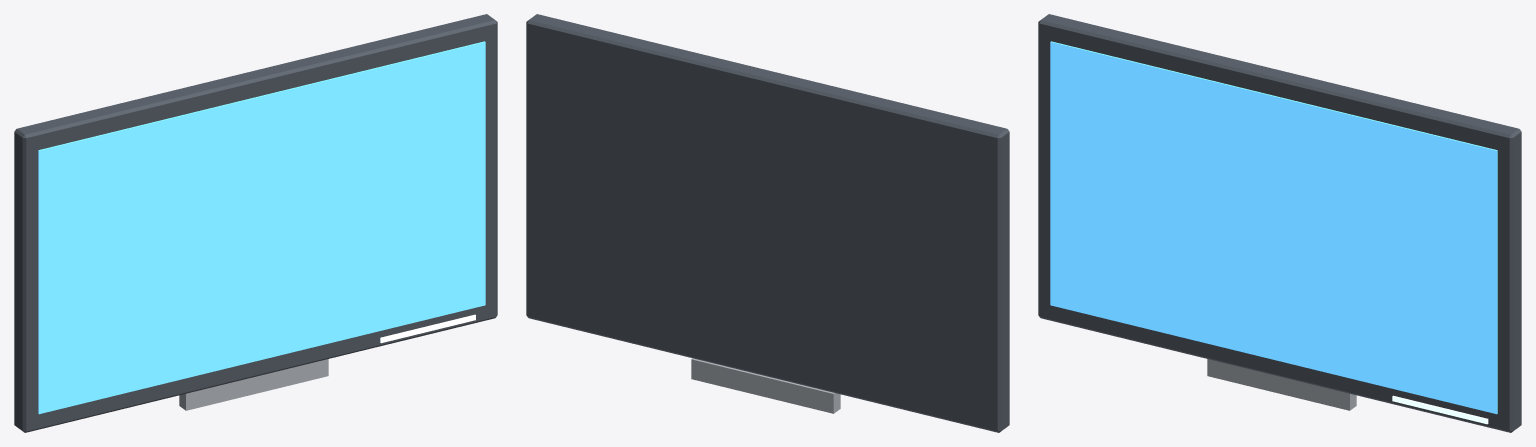
File: spaceship-deck-kit-wall-screen-18ab93e8__12570.glb
3 views of the same model, side by side, from view 1: azimuth 30°, elevation 25°; view 2: azimuth 150°, elevation 25°; view 3: azimuth 330°, elevation 25° (orthographic).
Parts seen in each view (by area): view 1: wall-screen; view 2: wall-screen; view 3: wall-screen.
Boxes of the visible parts, left/top/right/bottom form: wall-screen: left=14, top=14, right=497, bottom=432; wall-screen: left=526, top=14, right=1009, bottom=432; wall-screen: left=1038, top=14, right=1521, bottom=432.
Bounding box in the file's own units: 2 × 1.28 × 0.086.
